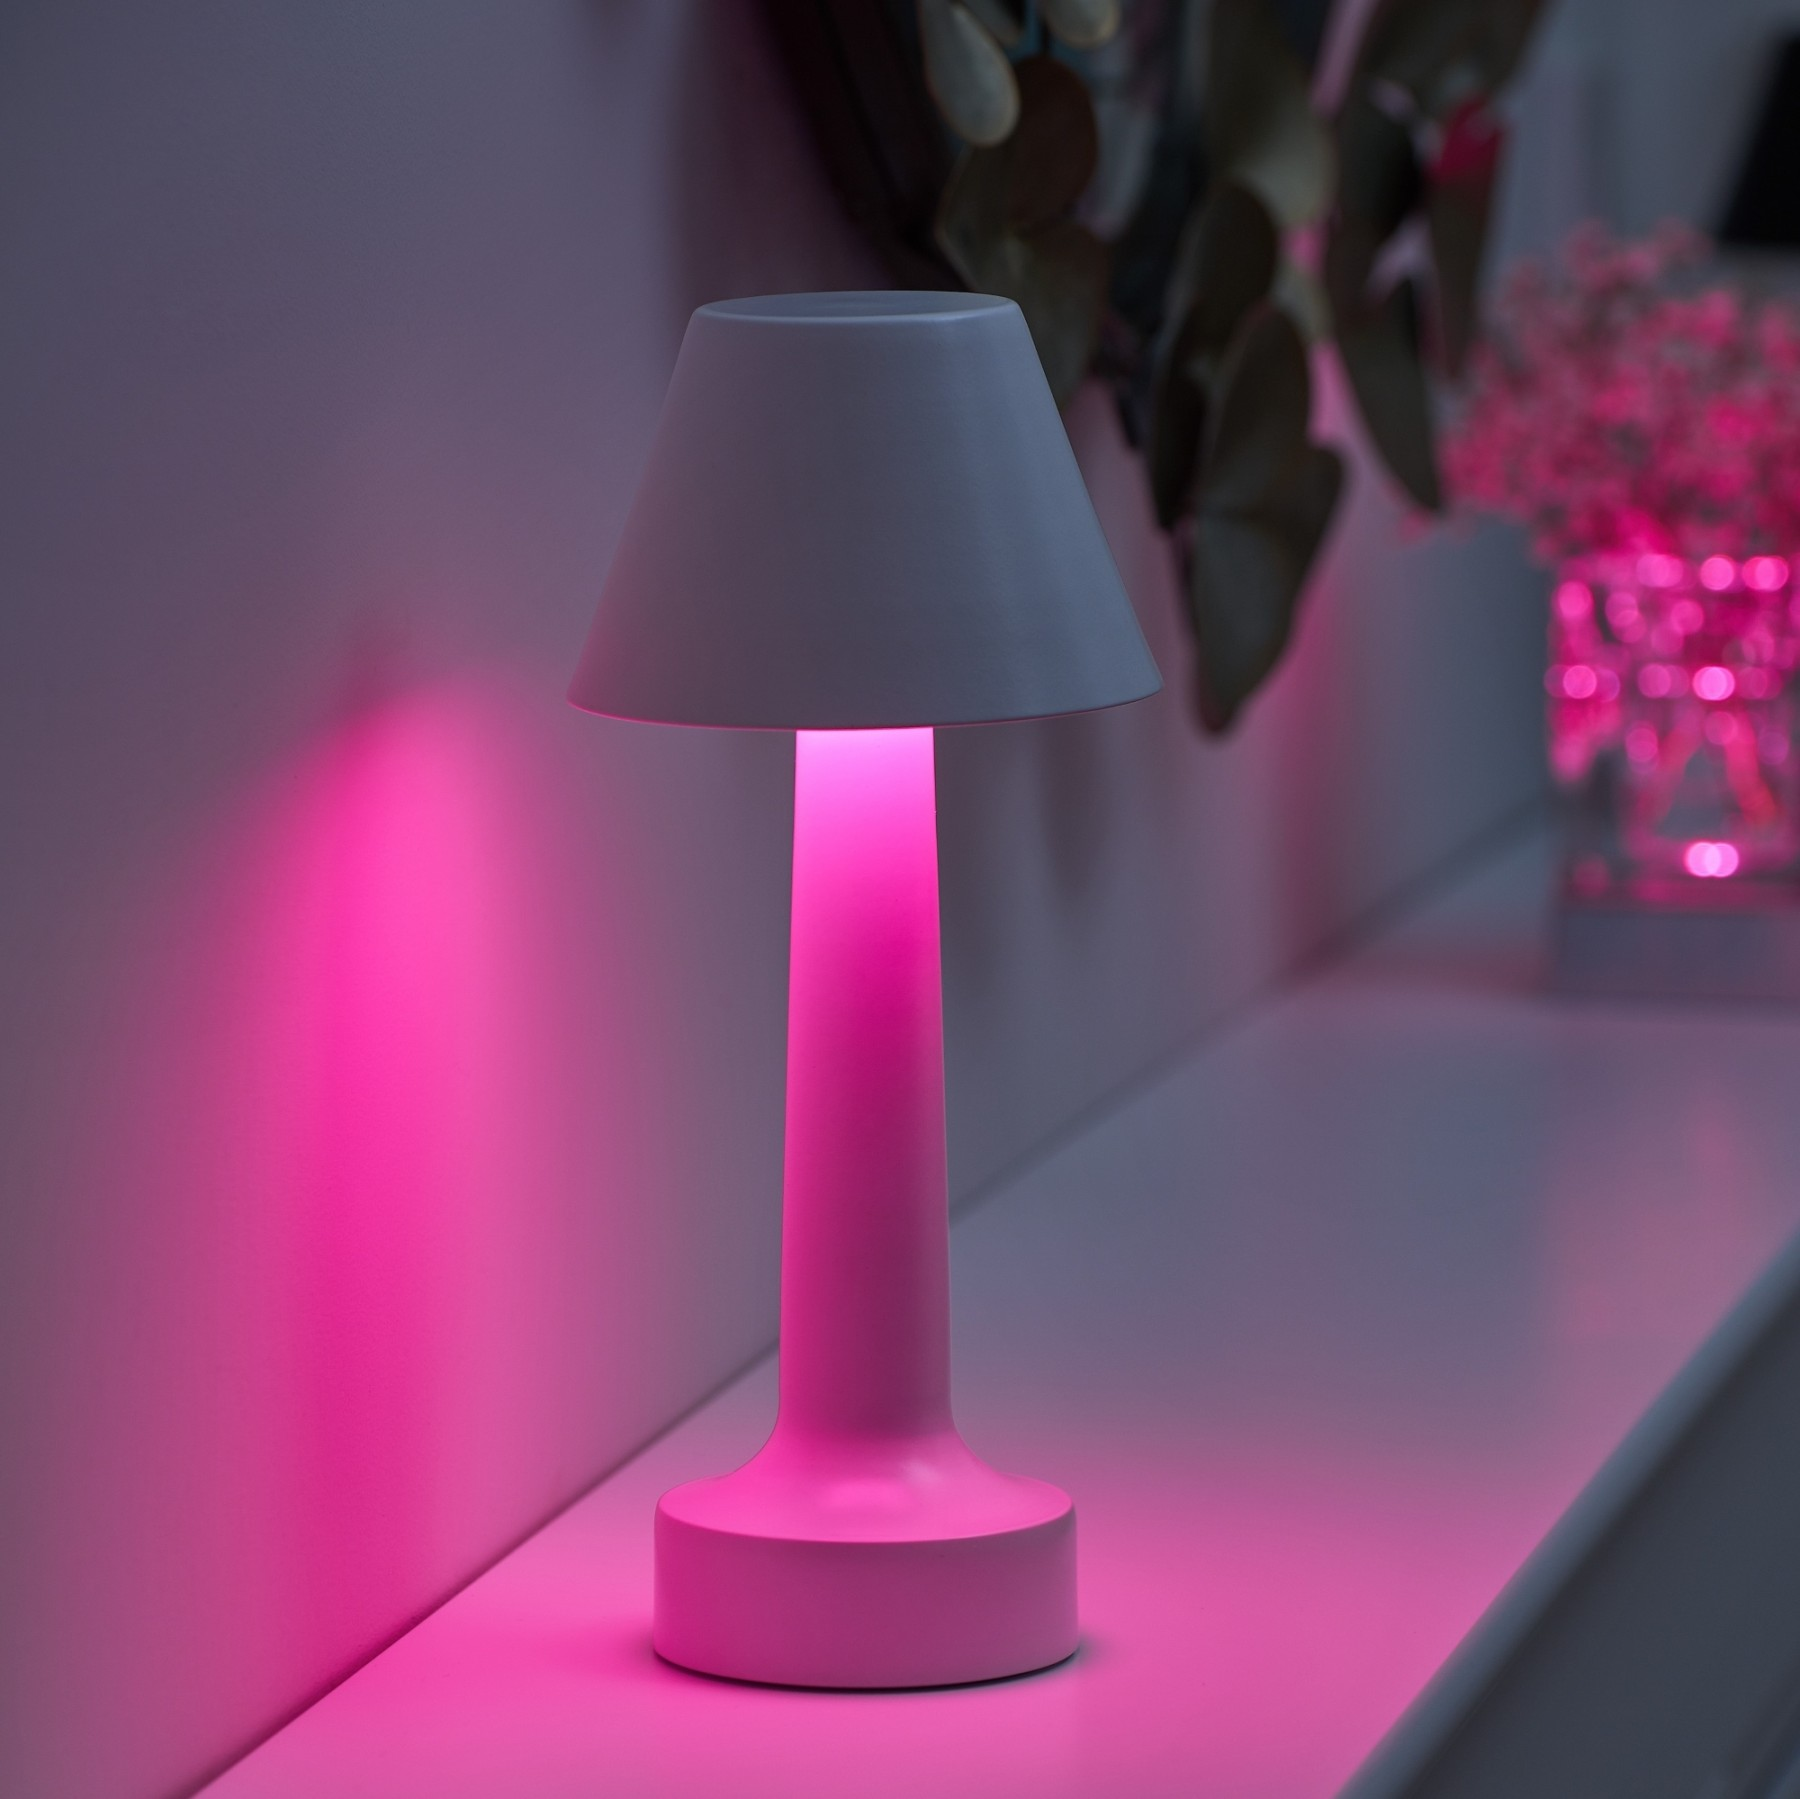lampu: (558, 283, 1156, 1695)
